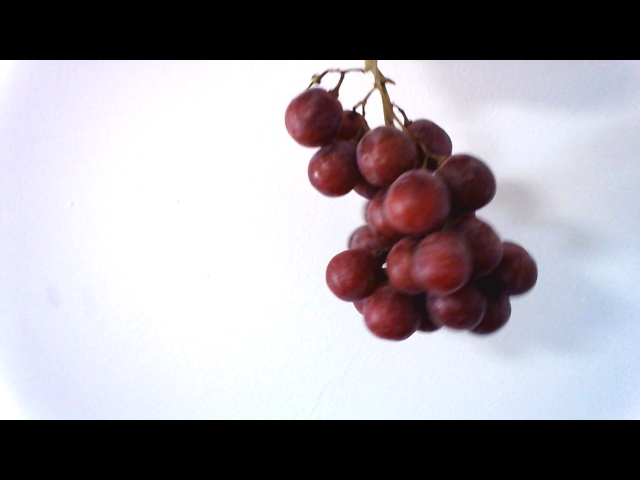grape: (291, 81, 539, 337)
